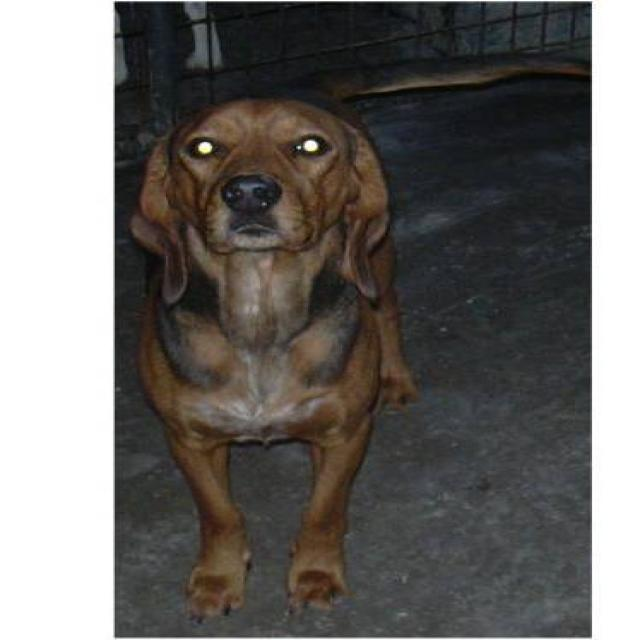dog: (127, 92, 421, 625)
